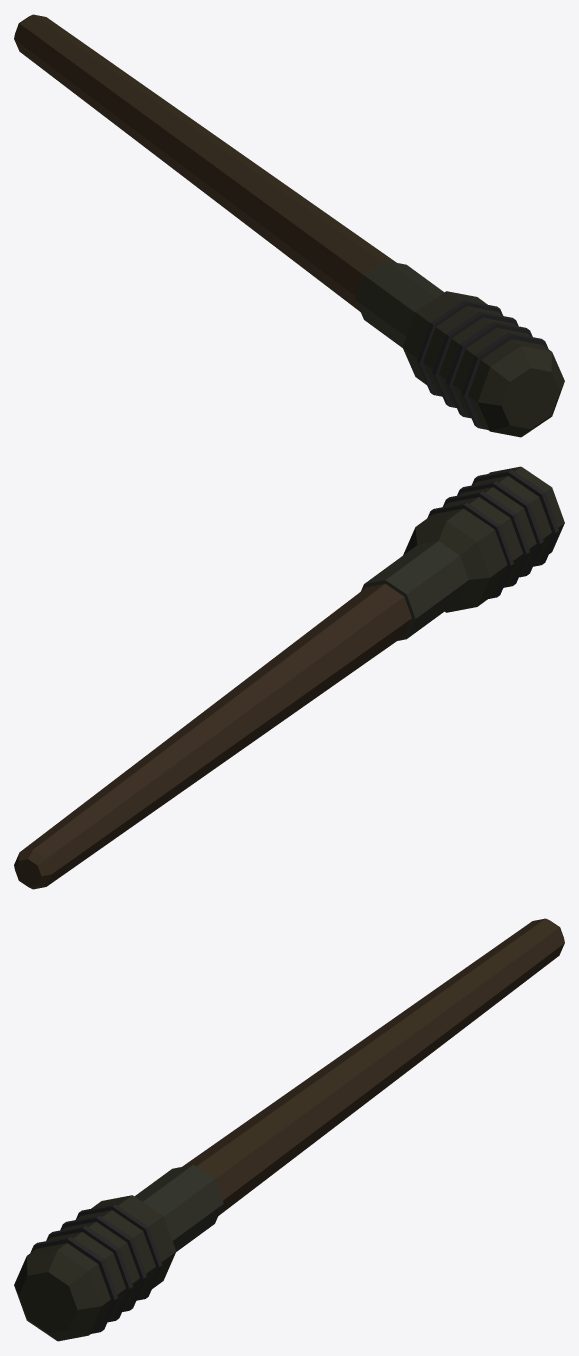
The model's file is torch.glb.
3 views of the same model, one above another, from view 1: azimuth 30°, elevation 25°; view 2: azimuth 150°, elevation 25°; view 3: azimuth 330°, elevation 25° (orthographic).
Parts seen in each view (by area): view 1: torch; view 2: torch; view 3: torch.
Part boxes in pixels (x1,y1,x2,y2): torch: (14,14,564,437); torch: (14,466,564,889); torch: (14,918,564,1341).
Size of the model in its own units: 0.0772 by 0.0772 by 0.7071.
Materials: 1 (1 with a texture image).
